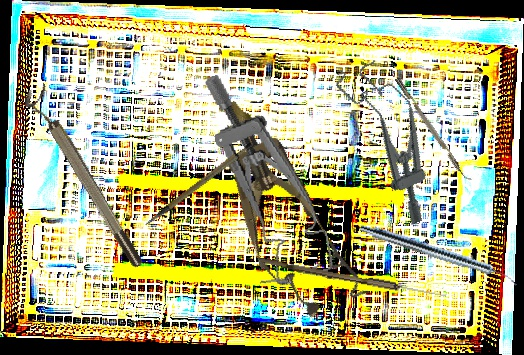Chopper: (394, 73, 475, 185)
Fixation Ring: (20, 82, 147, 275)
Handpiece: (357, 221, 521, 288)
Scalpel Handle: (134, 140, 263, 226)
Speculum: (192, 83, 370, 330), (203, 60, 335, 292), (332, 52, 456, 230)
Surgical Spoon: (258, 257, 448, 300)
